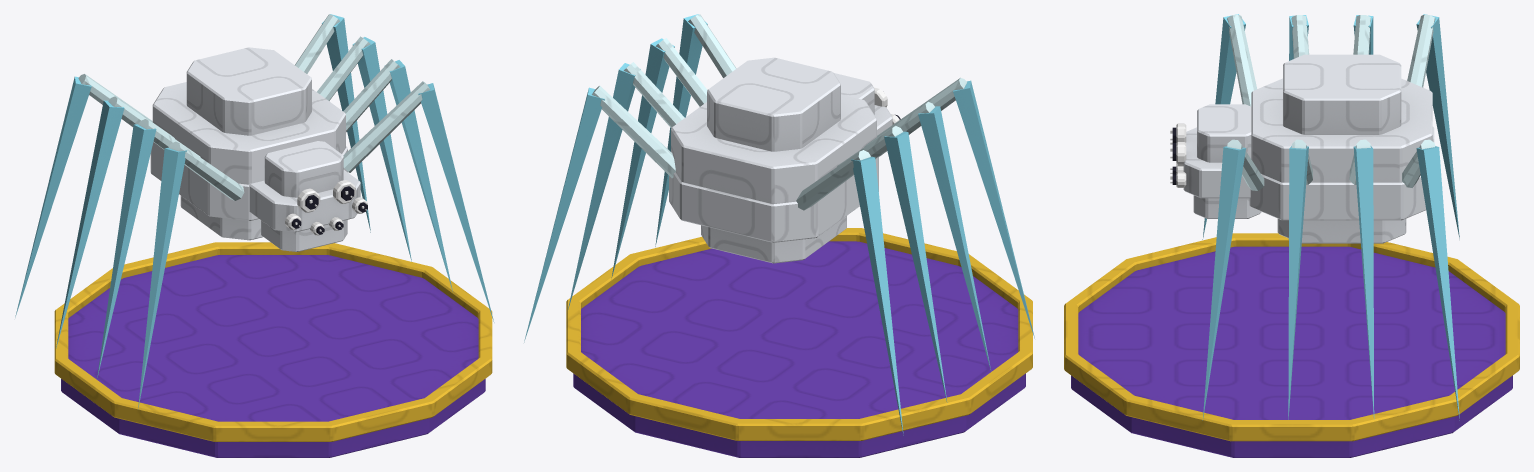
File: IceSpider.fbx
The picture shows the model from 3 angles, left to right: view 1: azimuth 30°, elevation 25°; view 2: azimuth 150°, elevation 25°; view 3: azimuth 270°, elevation 25°; orthographic projection. The views are drawn at different scales.
Visible parts, largest first — view 1: Art_IceSpider_Stand, Art_IceSpider_Body, Art_IceSpider_LegsR, Art_IceSpider_LegsL, Art_IceSpider_Head; view 2: Art_IceSpider_Stand, Art_IceSpider_Body, Art_IceSpider_LegsR, Art_IceSpider_LegsL, Art_IceSpider_Head; view 3: Art_IceSpider_Stand, Art_IceSpider_Body, Art_IceSpider_LegsL, Art_IceSpider_LegsR, Art_IceSpider_Head.
Boxes of the visible parts, x1,y1,x2,y2 form: Art_IceSpider_Stand: (54, 242, 492, 457); Art_IceSpider_Body: (150, 47, 347, 240); Art_IceSpider_LegsR: (15, 74, 244, 409); Art_IceSpider_LegsL: (295, 14, 494, 322); Art_IceSpider_Head: (249, 141, 367, 251); Art_IceSpider_Stand: (566, 228, 1032, 457); Art_IceSpider_Body: (669, 57, 878, 263); Art_IceSpider_LegsR: (796, 77, 1034, 435); Art_IceSpider_LegsL: (524, 14, 736, 342); Art_IceSpider_Head: (834, 73, 900, 135); Art_IceSpider_Stand: (1064, 233, 1519, 457); Art_IceSpider_Body: (1249, 54, 1434, 243); Art_IceSpider_LegsL: (1202, 139, 1459, 420); Art_IceSpider_LegsR: (1202, 14, 1459, 239); Art_IceSpider_Head: (1170, 104, 1261, 218).
Size of the model in its own units: 3.19 by 2.23 by 3.19.
